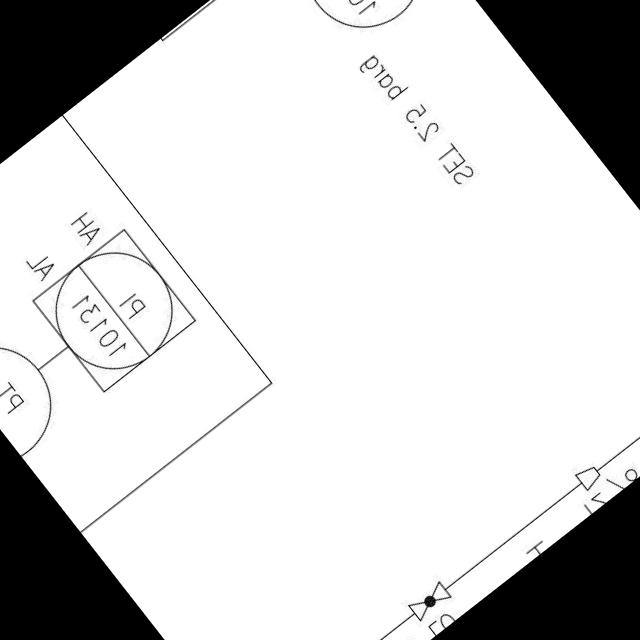BV2: (398, 572, 462, 632)
SP: (568, 457, 610, 497)
